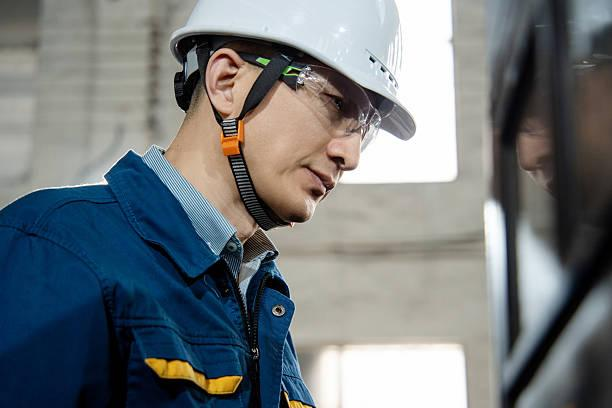goggle: (276, 52, 384, 152)
helmet: (159, 0, 415, 90)
vest: (1, 150, 298, 408)
